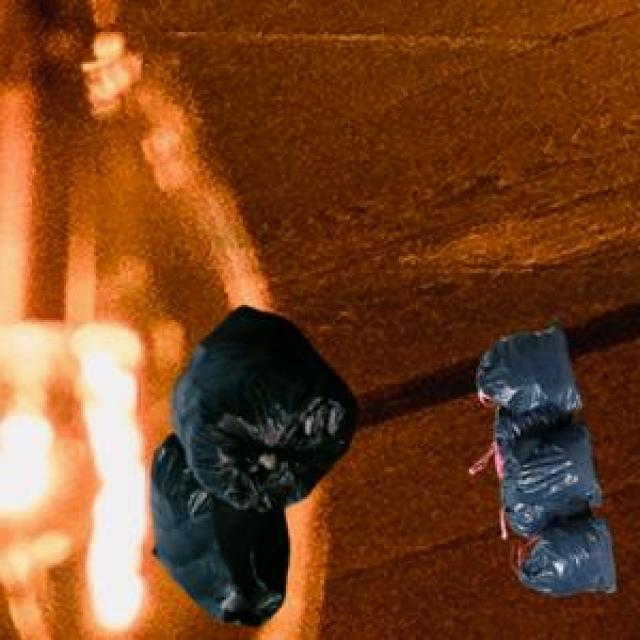Trashbag: (168, 306, 357, 514), (142, 490, 293, 626), (498, 413, 606, 522), (476, 322, 586, 417), (520, 517, 624, 599)
